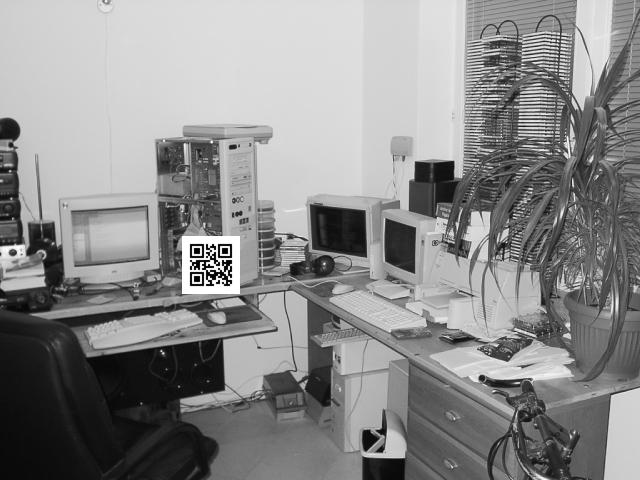qr_code: (182, 236, 239, 294)
